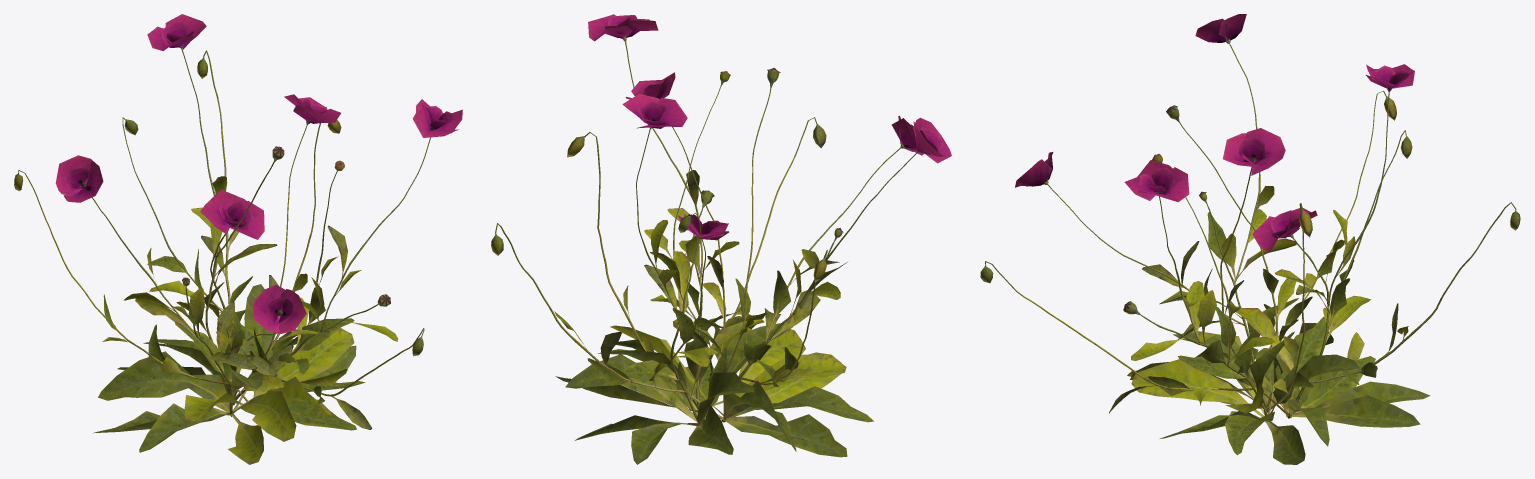
Rendered from Poppy_bush_long_magenta.glb.
The picture shows the model from 3 angles, left to right: view 1: azimuth 30°, elevation 25°; view 2: azimuth 150°, elevation 25°; view 3: azimuth 270°, elevation 25°; orthographic projection. The views are drawn at different scales.
Visible parts, largest first — view 1: large bush; view 2: large bush; view 3: large bush.
Boxes of the visible parts, bbox=[...] form: large bush: bbox=[14, 14, 462, 464]; large bush: bbox=[491, 14, 951, 464]; large bush: bbox=[980, 14, 1520, 464].
Bounding box in the file's own units: 6 × 5.32 × 7.44.
Materials: 1 (1 with a texture image).
